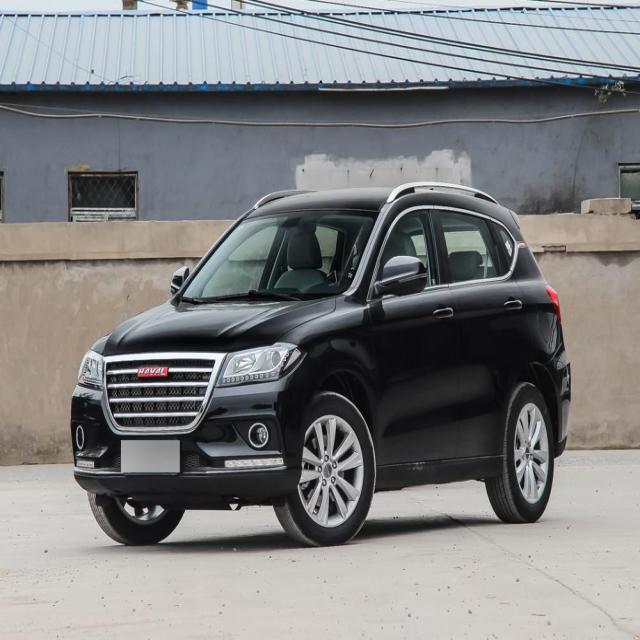back_left_side_light: (543, 280, 563, 327)
door: (431, 205, 536, 465)
front_bumper: (70, 407, 304, 498)
front_glass: (178, 206, 382, 304)
front_left_side_door: (371, 196, 462, 468)
front_left_side_light: (214, 339, 307, 388)
front_left_side_mirror: (374, 254, 428, 298)
front_right_side_light: (75, 346, 105, 390)
front_right_side_mirror: (170, 264, 188, 296)
rear_bumper: (544, 344, 574, 462)
wheel: (273, 392, 376, 546), (484, 382, 554, 520), (86, 491, 186, 543)
